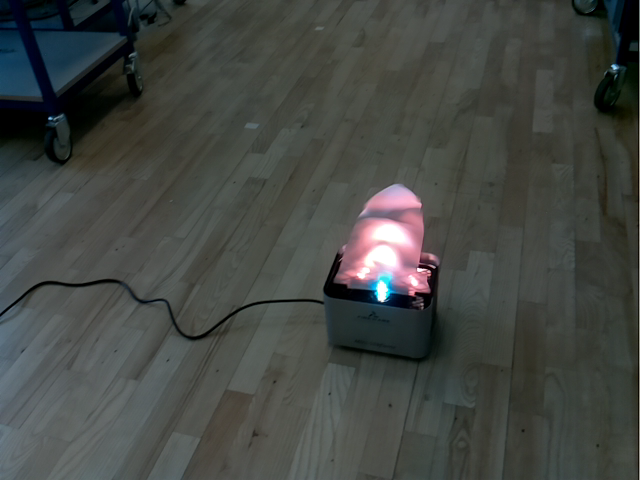fire: (332, 183, 431, 297)
